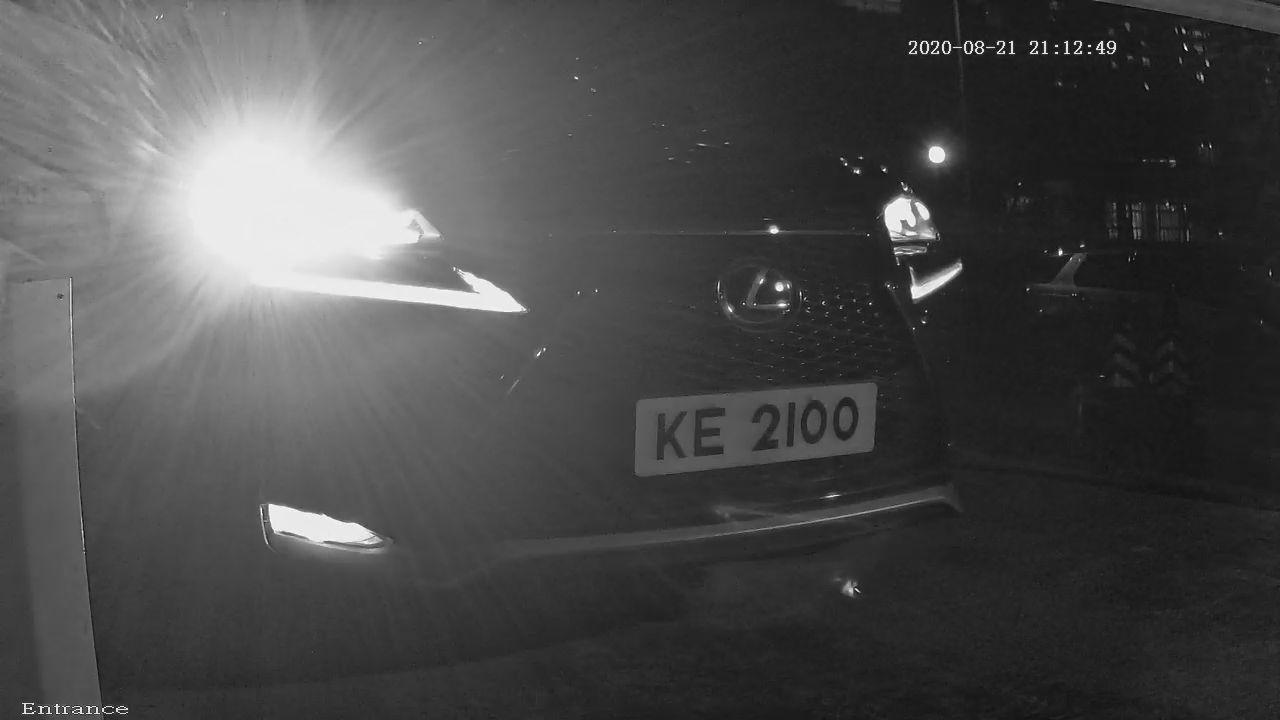Car: (1, 4, 1143, 669)
License Plate: (618, 364, 898, 489)
